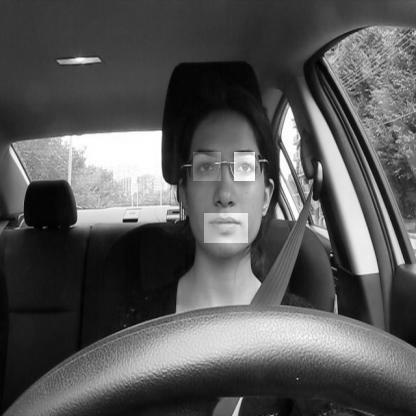seatbelt: (173, 66, 292, 416)
